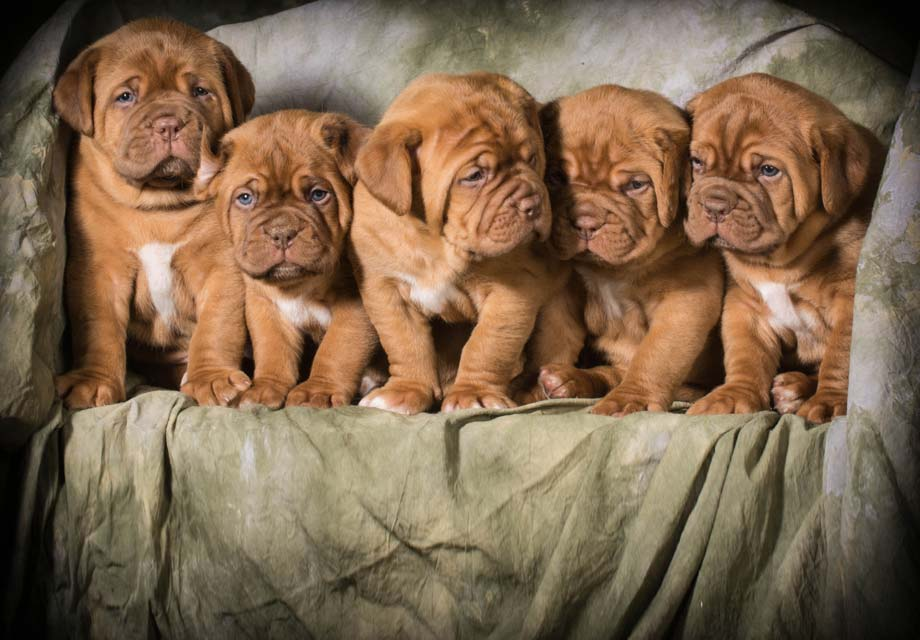dogue_de_bordeaux: (52, 14, 256, 411), (347, 70, 574, 417), (682, 72, 885, 422), (538, 77, 727, 417), (209, 107, 375, 411)
